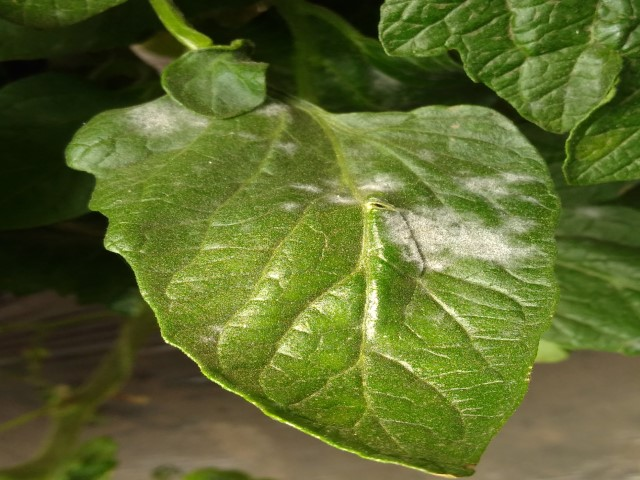oidio: (391, 208, 529, 276), (456, 160, 533, 207), (132, 104, 210, 140), (353, 168, 407, 194), (255, 98, 295, 124), (290, 178, 323, 198), (274, 140, 301, 159), (278, 200, 304, 214)
